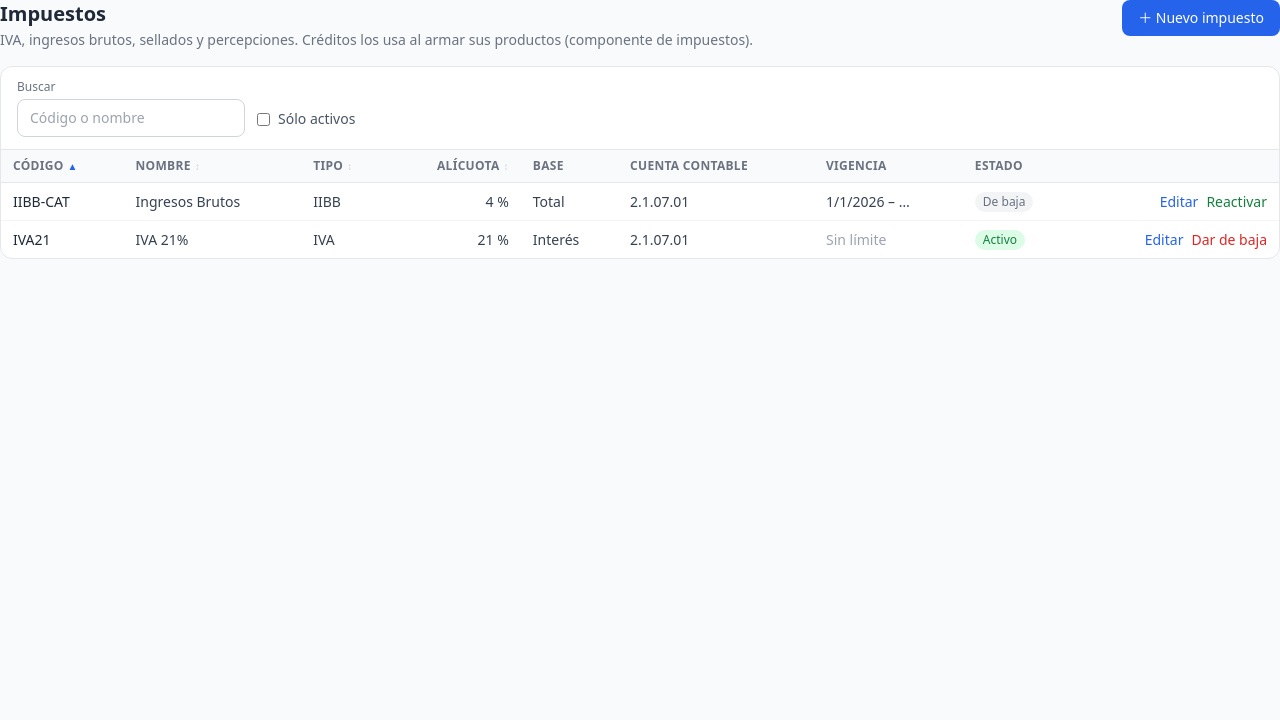
Test: Impuestos › da de alta un impuesto con la alícuota numérica
Click the button "＋ Nuevo impuesto" at coordinates (1201, 18), box x1=1122 y1=0 x2=1279 y2=36
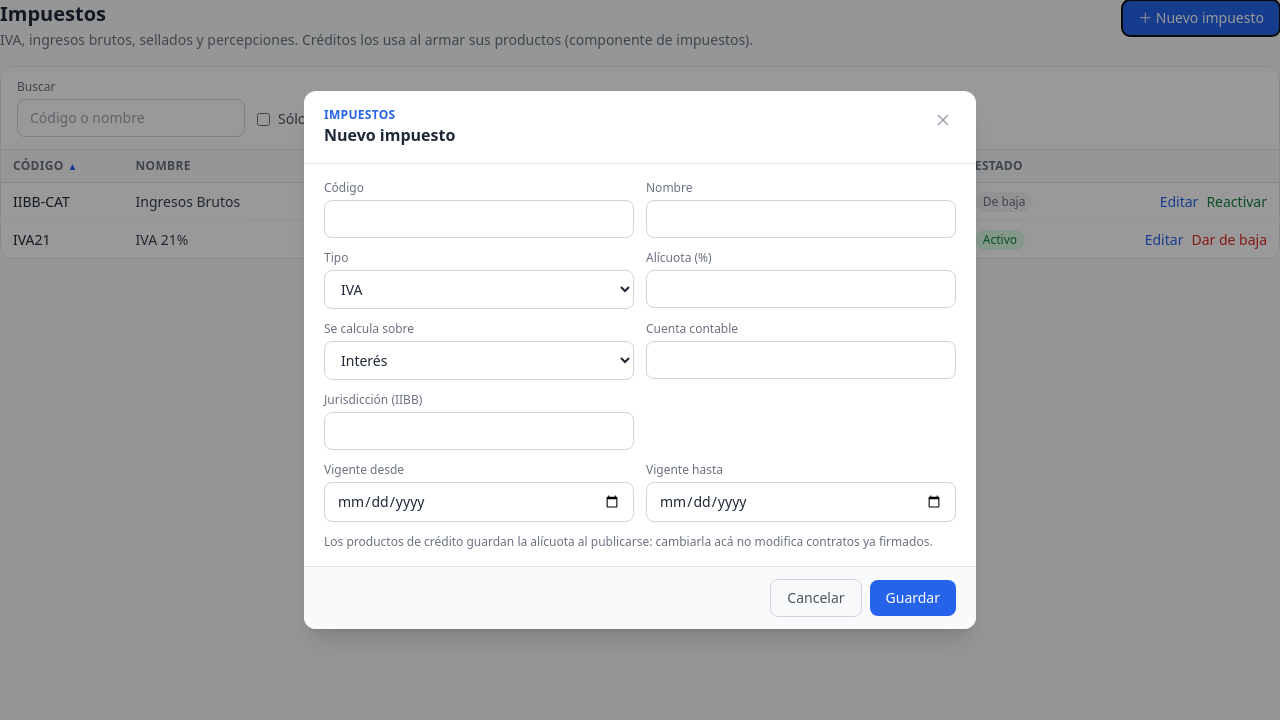
Type "PERC" into the field labelled "Código" at coordinates (479, 219), box x1=324 y1=200 x2=634 y2=238
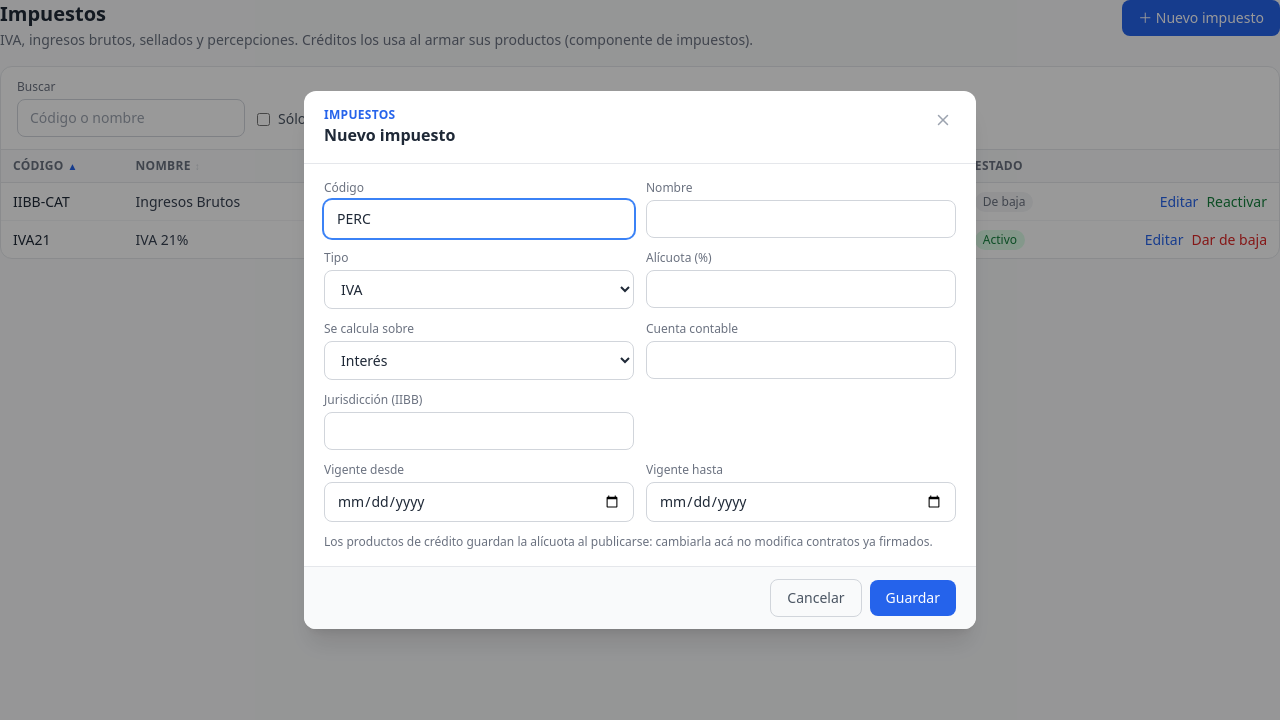
Type "Percepción" into the field labelled "Nombre" at coordinates (801, 219), box x1=646 y1=200 x2=956 y2=238
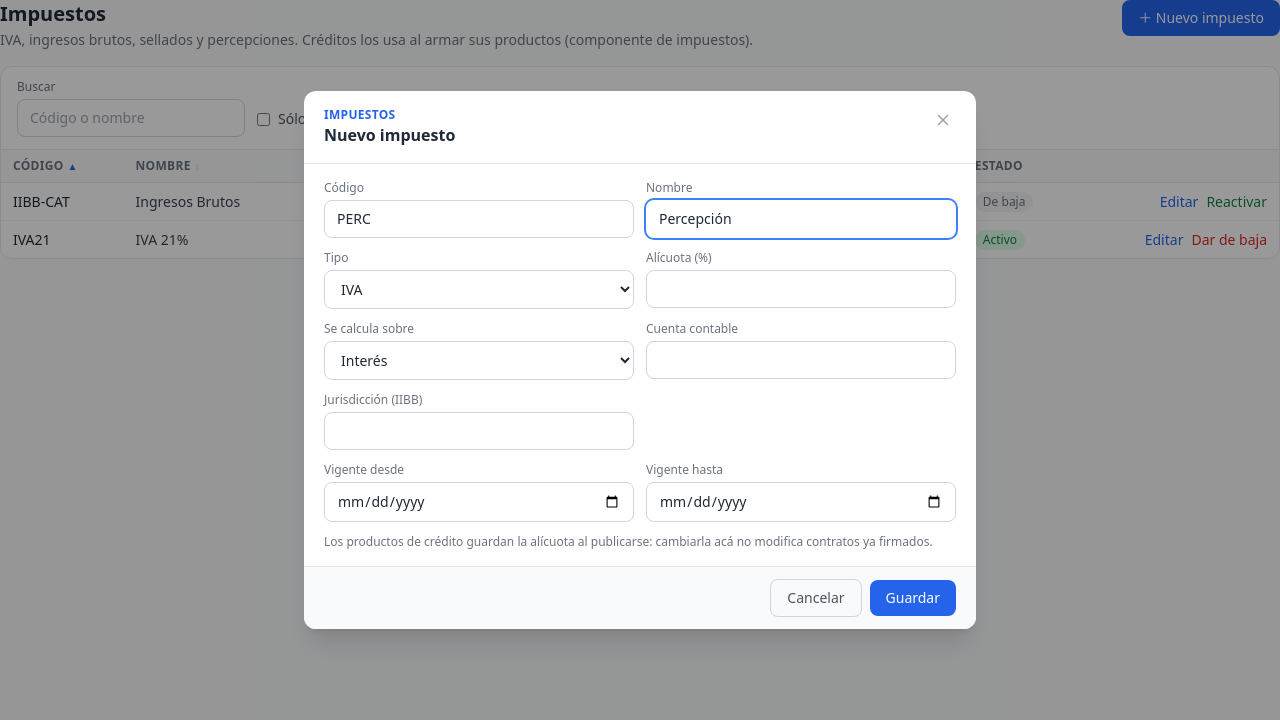
Select "PERCEPCION" in the dropdown labelled "Tipo" at coordinates (479, 290), box x1=324 y1=270 x2=634 y2=309
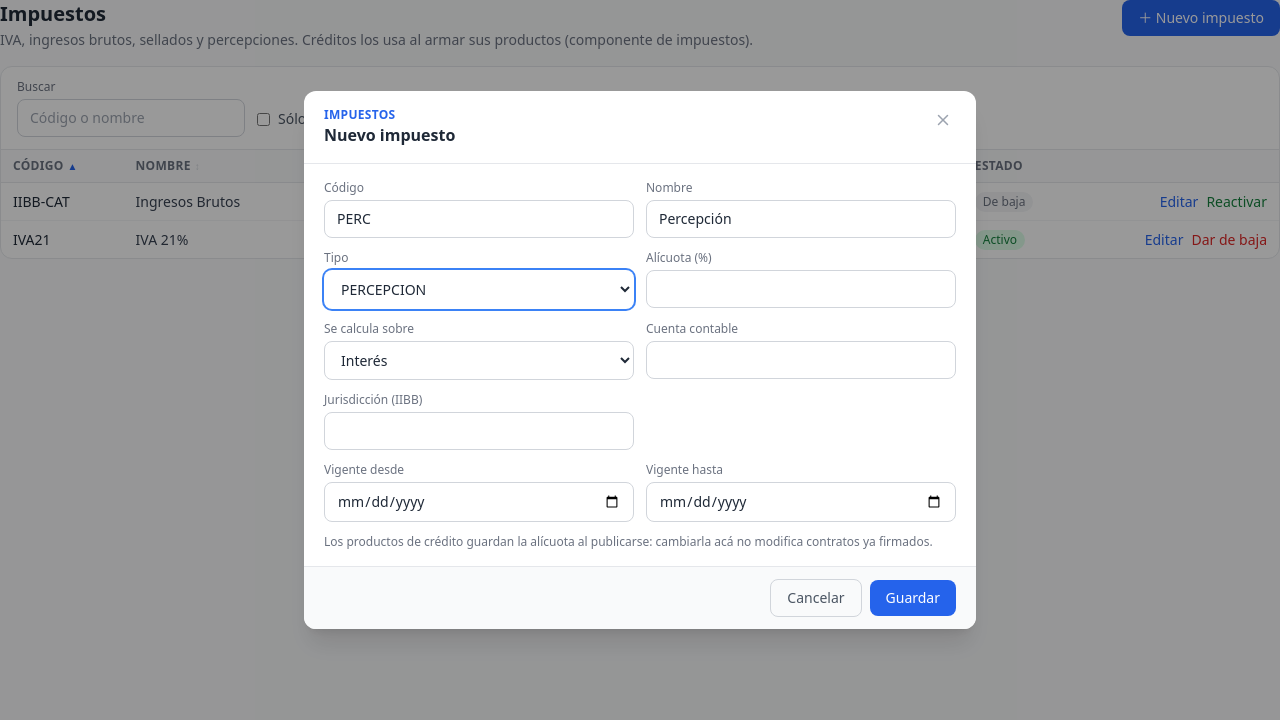
Type "3.5" into the number field labelled "Alícuota (%)" at coordinates (801, 289), box x1=646 y1=270 x2=956 y2=308
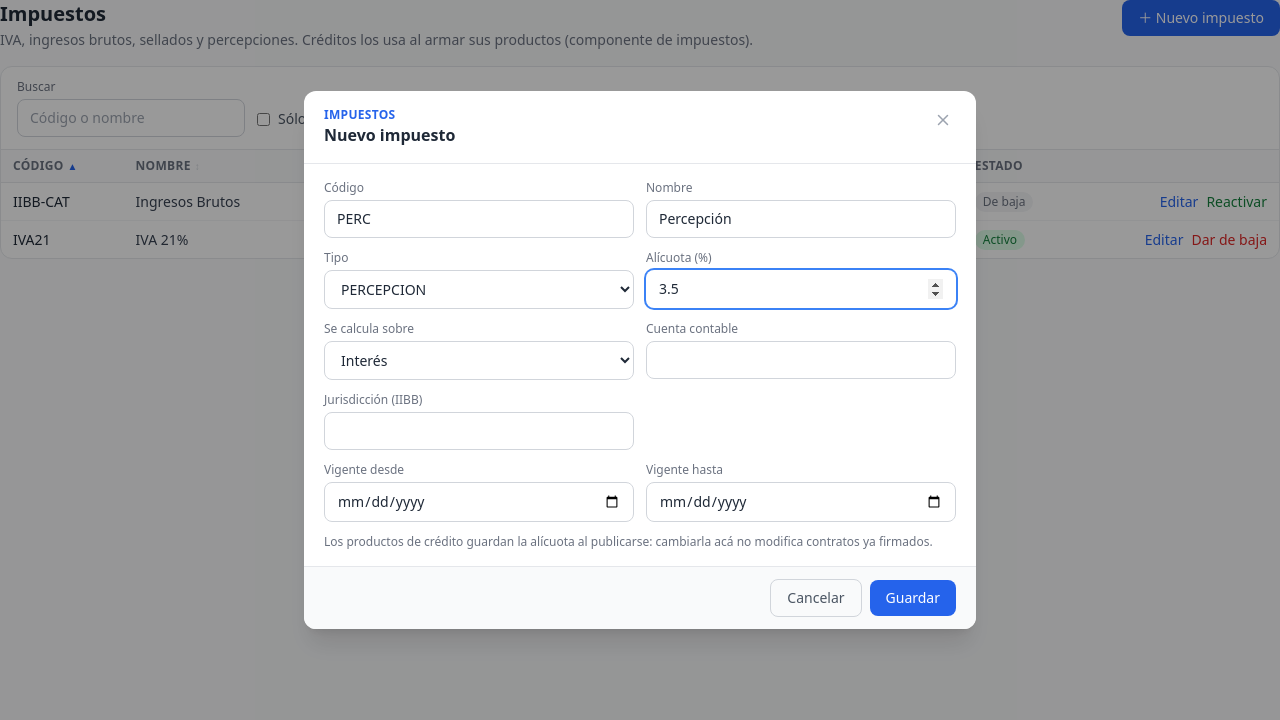
Click the button "Guardar" at coordinates (913, 598), box x1=870 y1=580 x2=956 y2=616
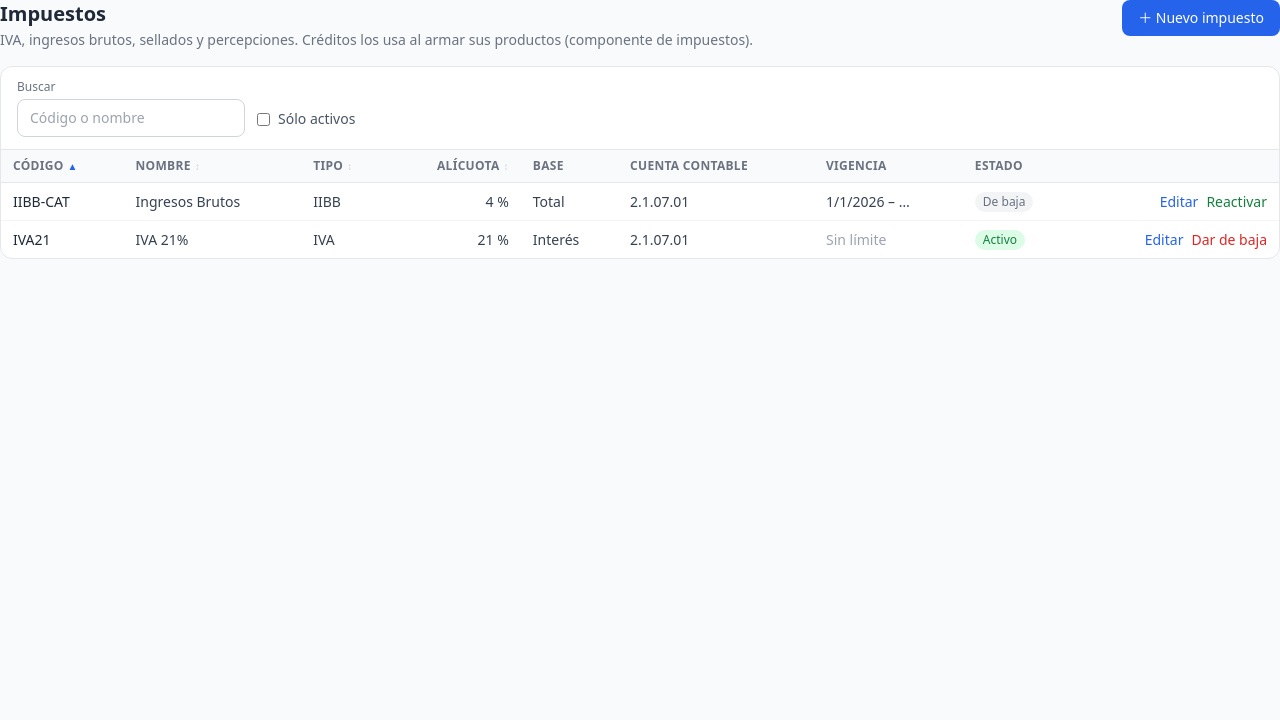
expect the dialog is gone: met
